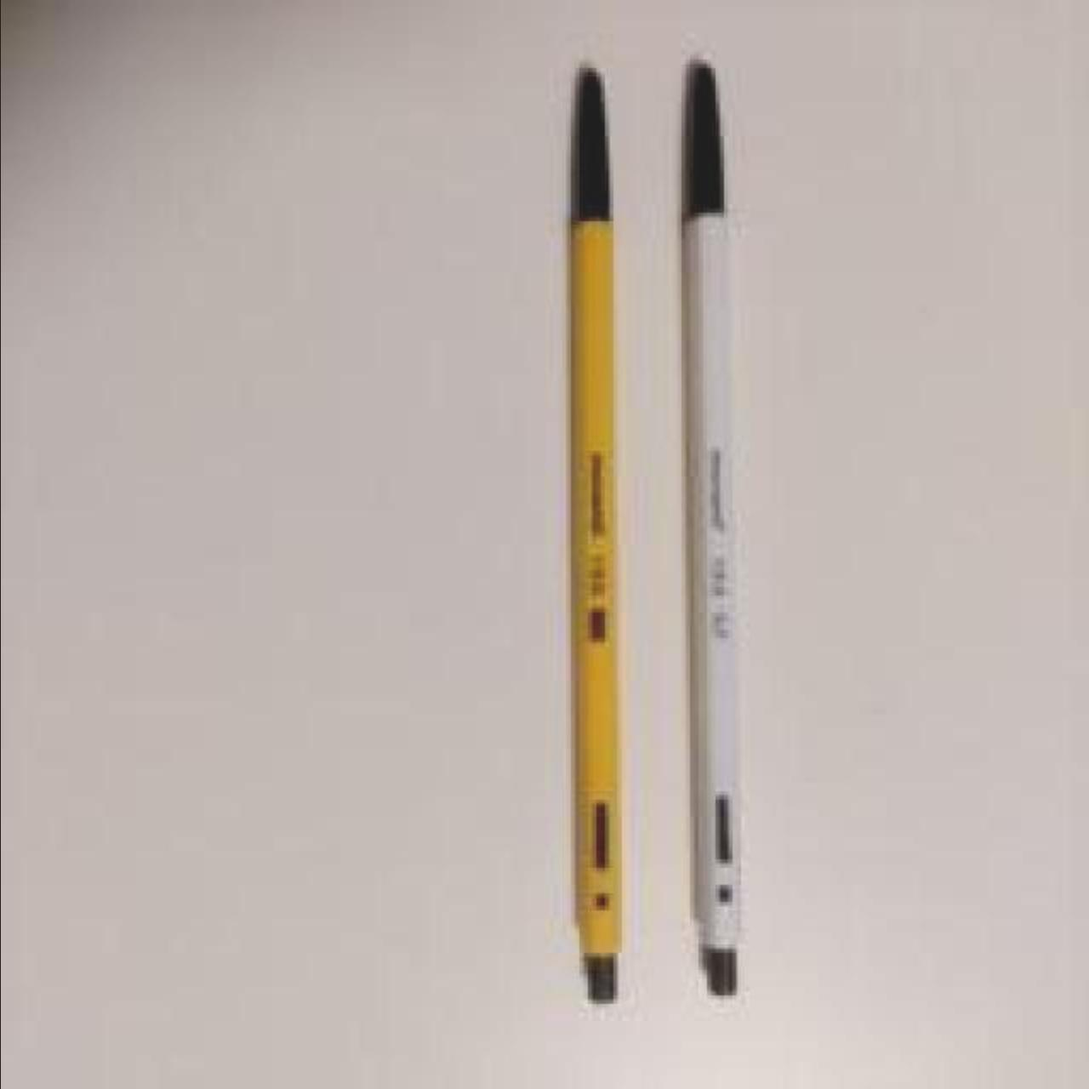pen: (684, 65, 744, 1006)
